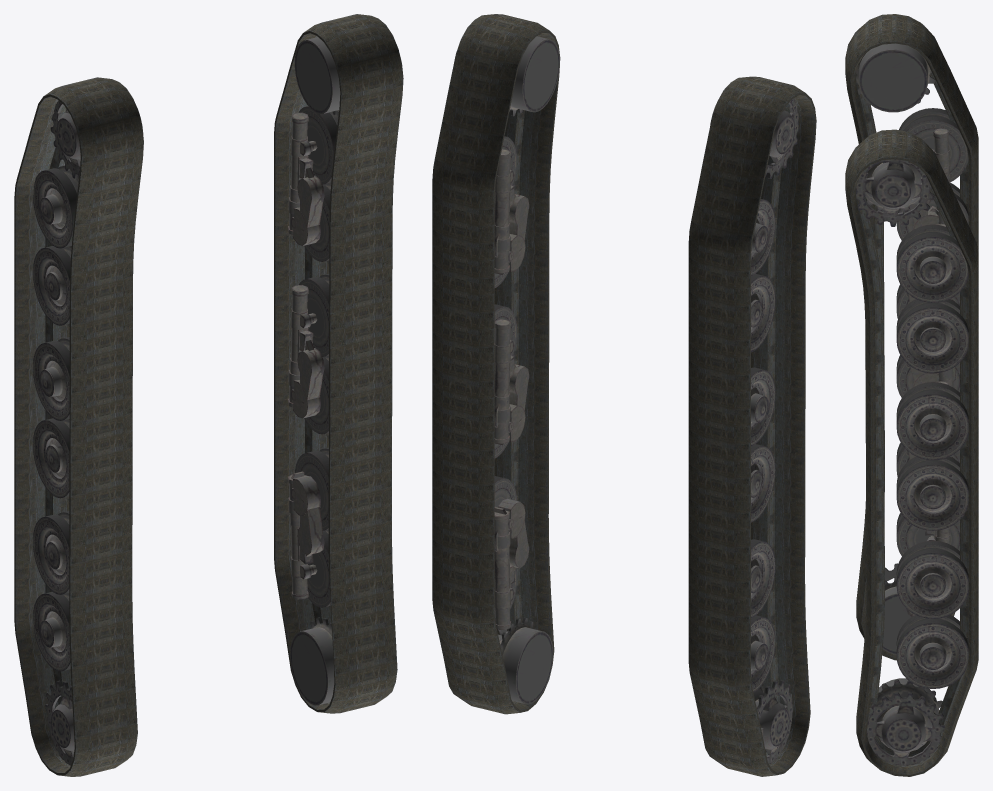
File: Chassis.glb
3 views of the same model, side by side, from view 1: azimuth 30°, elevation 25°; view 2: azimuth 150°, elevation 25°; view 3: azimuth 270°, elevation 25° (orthographic). The views are drawn at different scales.
Visible parts, largest first — view 1: set_1_group_0, set_0_group_0, set_3_group_0, set_2_group_0; view 2: set_1_group_0, set_0_group_0, set_3_group_0, set_2_group_0; view 3: set_3_group_0, set_0_group_0, set_2_group_0, set_1_group_0.
Part boxes in pixels (x1,y1,x2,y2): set_1_group_0: (14, 77, 143, 776); set_0_group_0: (274, 14, 403, 713); set_3_group_0: (288, 37, 340, 705); set_2_group_0: (33, 100, 143, 765); set_1_group_0: (688, 76, 816, 776); set_0_group_0: (432, 14, 560, 714); set_3_group_0: (494, 36, 559, 704); set_2_group_0: (710, 98, 798, 763); set_3_group_0: (856, 159, 968, 765); set_0_group_0: (845, 129, 978, 776); set_2_group_0: (856, 43, 968, 654); set_1_group_0: (845, 14, 978, 660).
Bounding box in the file's own units: 3.32 × 6.79 × 1.31.
4 materials, 4 textured.
